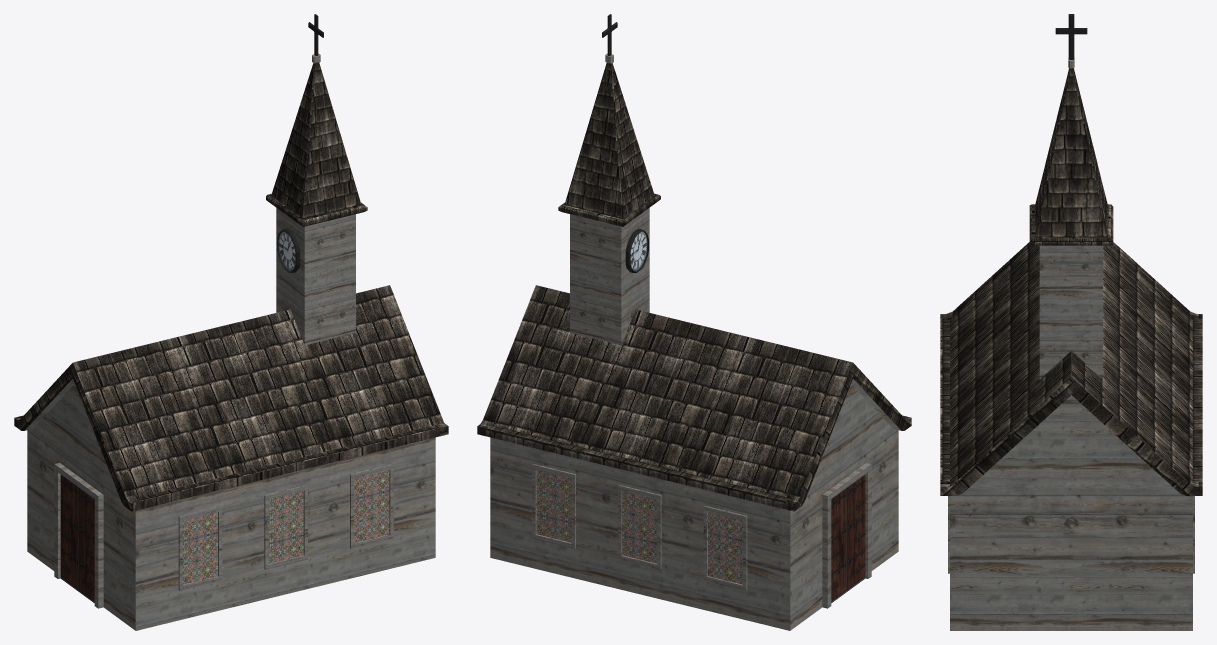
File: Church.FBX
The picture shows the model from 3 angles, left to right: view 1: azimuth 30°, elevation 25°; view 2: azimuth 150°, elevation 25°; view 3: azimuth 270°, elevation 25°; orthographic projection. The views are drawn at different scales.
Visible parts, largest first — view 1: Box01; view 2: Box01; view 3: Box01.
Boxes of the visible parts, bbox=[...] form: Box01: bbox=[14, 14, 448, 630]; Box01: bbox=[477, 14, 911, 630]; Box01: bbox=[940, 14, 1202, 630].
Size of the model in its own units: 204 by 320 by 131.
11 materials, 11 textured.
